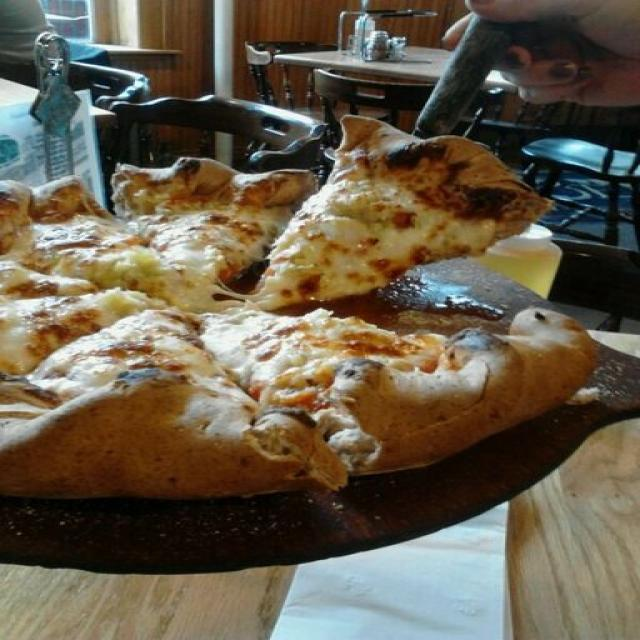Pizza: (3, 116, 595, 499)
